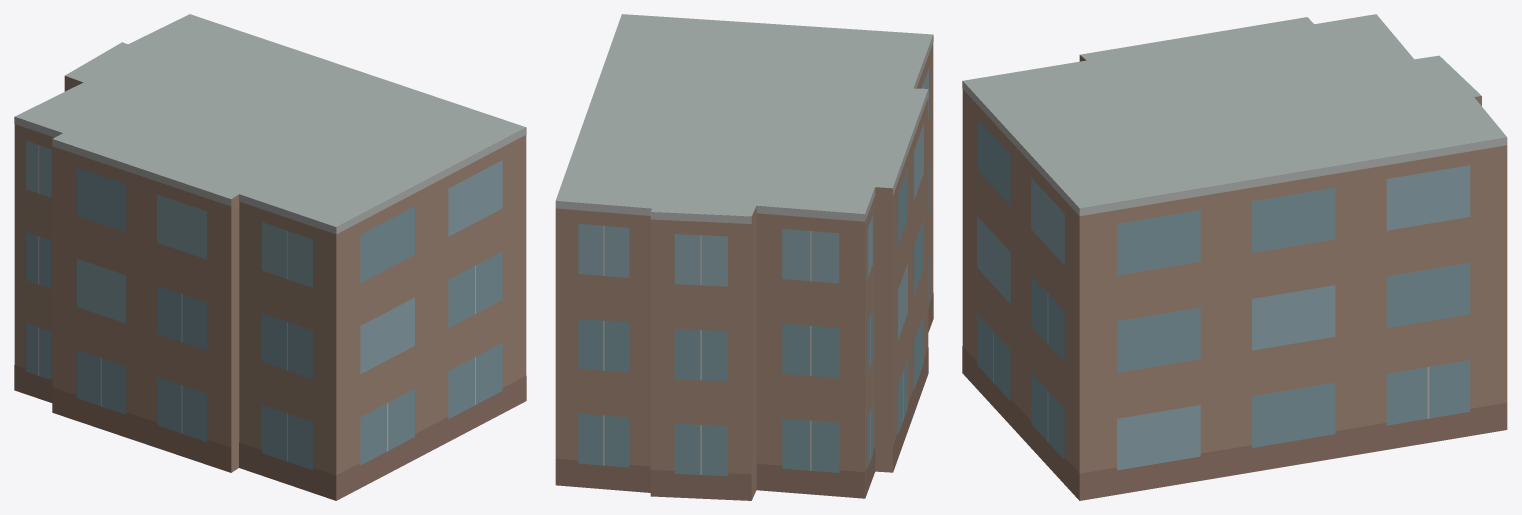
File: survey-upis-32834294.glb
The picture shows the model from 3 angles, left to right: view 1: azimuth 30°, elevation 25°; view 2: azimuth 150°, elevation 25°; view 3: azimuth 270°, elevation 25°; orthographic projection. The views are drawn at different scales.
Visible parts, largest first — view 1: survey-upis-32834294.tmp; view 2: survey-upis-32834294.tmp; view 3: survey-upis-32834294.tmp.
Part boxes in pixels (x1,y1,x2,y2): survey-upis-32834294.tmp: [14, 14, 526, 500]; survey-upis-32834294.tmp: [555, 14, 933, 500]; survey-upis-32834294.tmp: [962, 14, 1507, 500].
Bounding box in the file's own units: 13.06 × 9.15 × 15.46.
